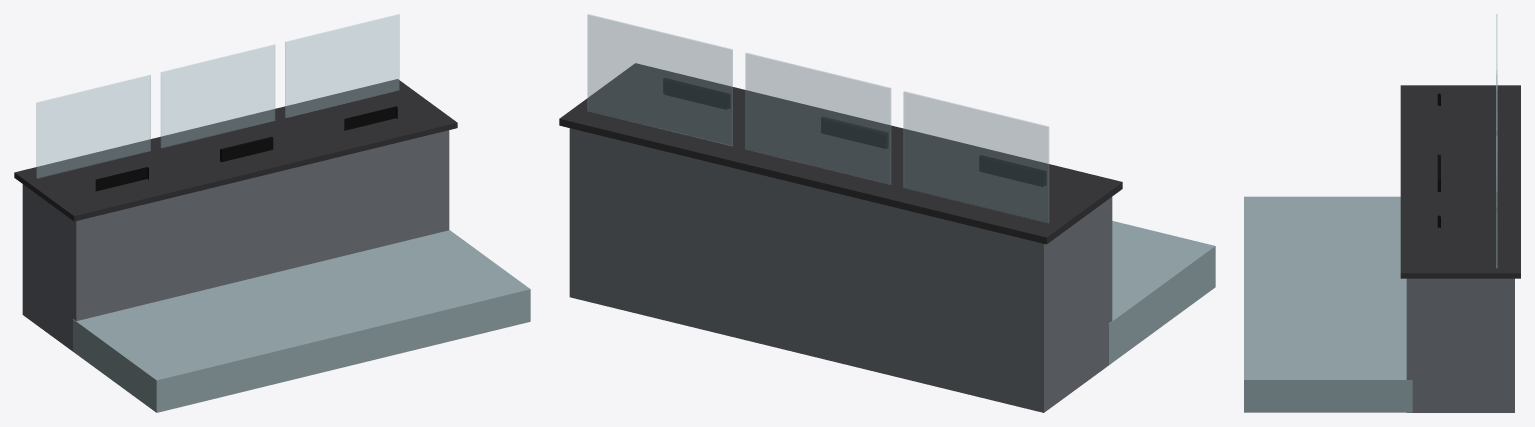
The model's file is police.custody.desk.glb.
3 renders of one model, left to right at view 1: azimuth 30°, elevation 25°; view 2: azimuth 150°, elevation 25°; view 3: azimuth 270°, elevation 25°, orthographic. The views are drawn at different scales.
Parts seen in each view (by area): view 1: main__laminate_grey, main__vinyl_floor, main__glass, main__worktop, main__plastic_black; view 2: main__laminate_grey, main__glass, main__worktop, main__vinyl_floor, main__screen, main__plastic_black; view 3: main__vinyl_floor, main__worktop, main__laminate_grey, main__glass.
Part boxes in pixels (x1,y1,x2,y2): main__laminate_grey: [22, 130, 449, 351]; main__vinyl_floor: [73, 230, 530, 412]; main__glass: [36, 14, 399, 178]; main__worktop: [14, 79, 457, 221]; main__plastic_black: [95, 106, 397, 191]; main__laminate_grey: [569, 128, 1112, 412]; main__glass: [587, 14, 1048, 222]; main__worktop: [559, 63, 1122, 244]; main__vinyl_floor: [1108, 221, 1215, 364]; main__screen: [664, 81, 1043, 186]; main__plastic_black: [663, 78, 1046, 185]; main__vinyl_floor: [1244, 196, 1412, 412]; main__worktop: [1400, 85, 1520, 278]; main__laminate_grey: [1406, 278, 1514, 412]; main__glass: [1496, 14, 1497, 267].
Bounding box in the file's own units: 3.7 × 2 × 2.3.
